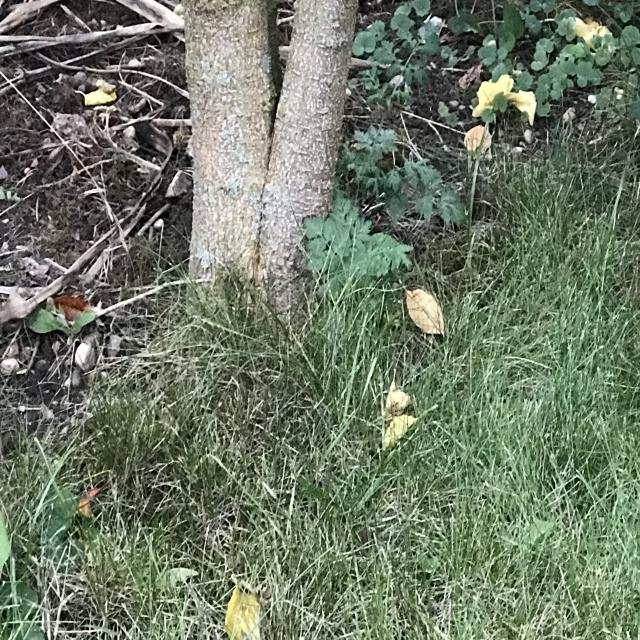lawn: (0, 133, 640, 638)
